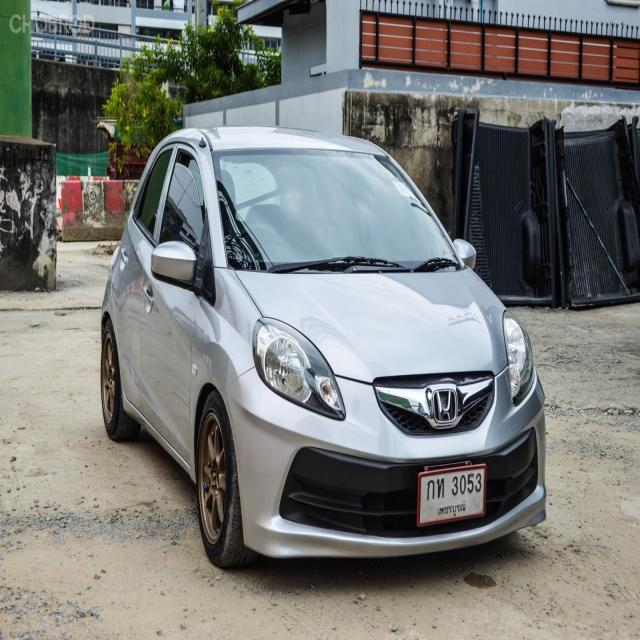license_plate: (414, 462, 488, 527)
